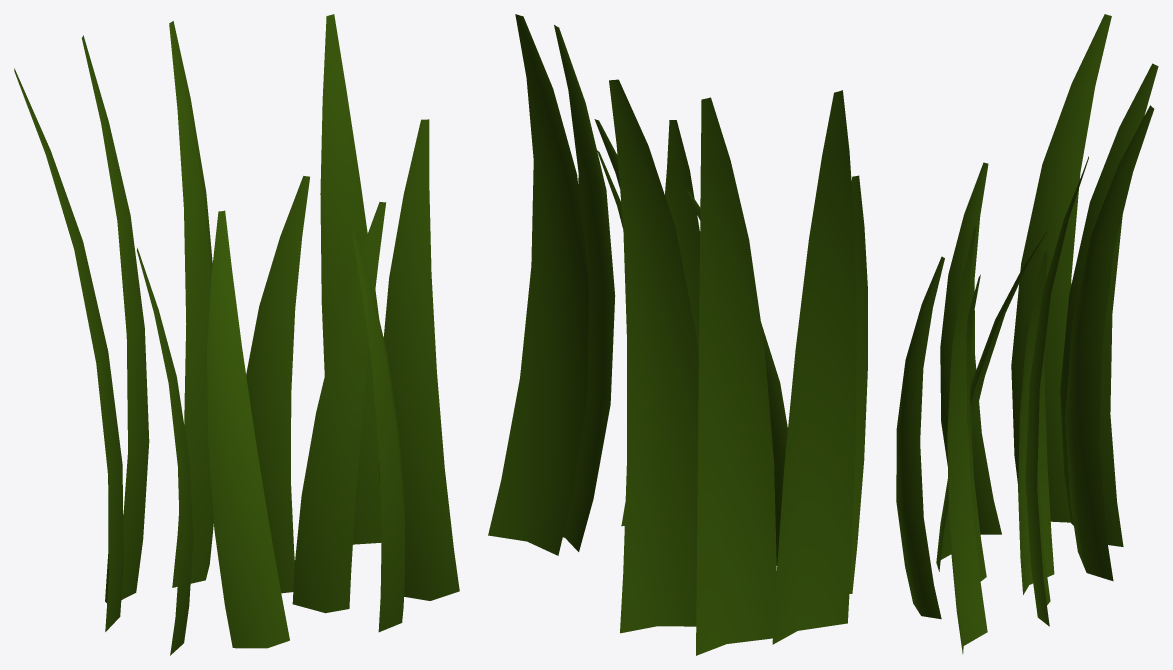
The model's file is grass.obj.
The picture shows the model from 3 angles, left to right: view 1: azimuth 30°, elevation 25°; view 2: azimuth 150°, elevation 25°; view 3: azimuth 270°, elevation 25°; orthographic projection. The views are drawn at different scales.
Parts seen in each view (by area): view 1: Plane.008; view 2: Plane.008; view 3: Plane.008.
Part boxes in pixels (bbox=[...]): Plane.008: bbox=[14, 14, 459, 655]; Plane.008: bbox=[488, 14, 867, 655]; Plane.008: bbox=[896, 14, 1158, 654].
Size of the model in its own units: 2.63 by 3.81 by 1.86.
